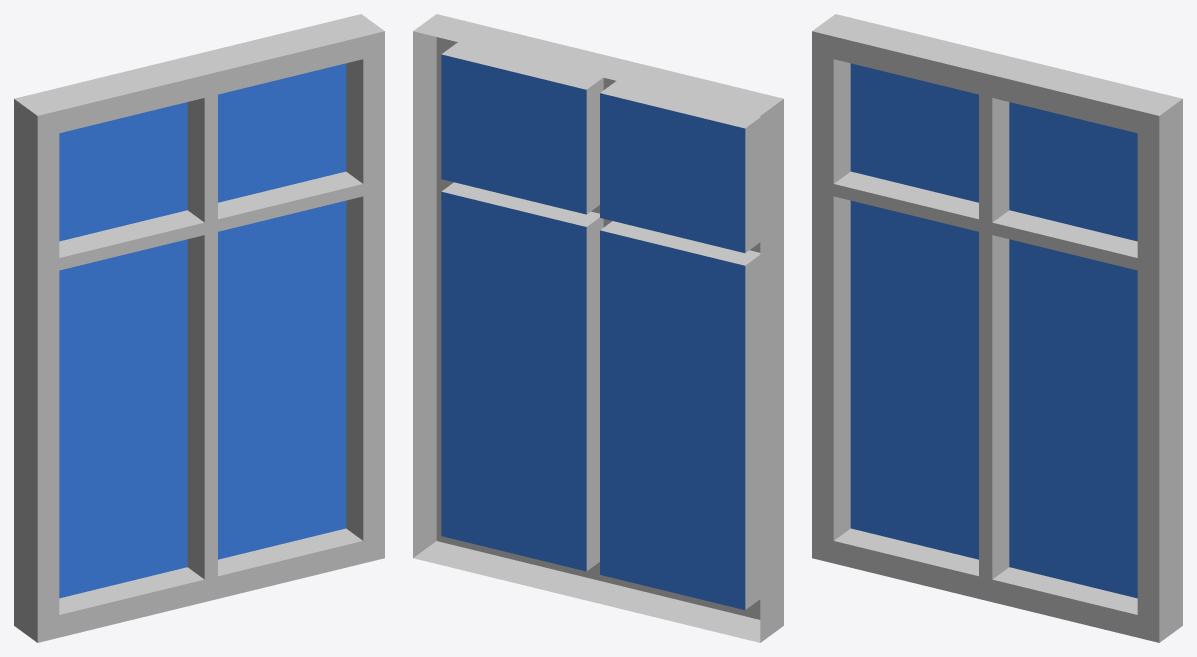
Rendered from 5 window.fbx.
3 views of the same model, side by side, from view 1: azimuth 30°, elevation 25°; view 2: azimuth 150°, elevation 25°; view 3: azimuth 330°, elevation 25° (orthographic).
Parts seen in each view (by area): view 1: 5 window; view 2: 5 window; view 3: 5 window.
Part boxes in pixels (left/top/right/bottom): 5 window: left=14, top=14, right=384, bottom=642; 5 window: left=413, top=14, right=783, bottom=642; 5 window: left=812, top=14, right=1182, bottom=642.
Size of the model in its own units: 41.55 by 60.25 by 4.88.
